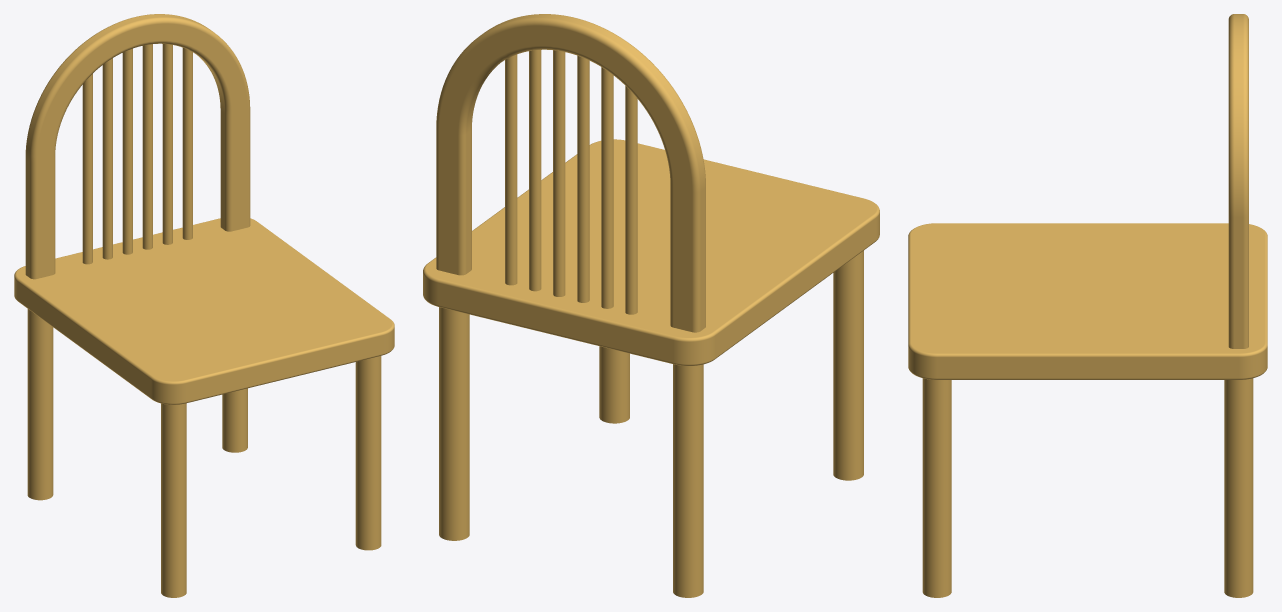
The model's file is chair01.gltf.
The picture shows the model from 3 angles, left to right: view 1: azimuth 30°, elevation 25°; view 2: azimuth 150°, elevation 25°; view 3: azimuth 270°, elevation 25°; orthographic projection. The views are drawn at different scales.
Parts seen in each view (by area): view 1: chair01_clone; view 2: chair01_clone; view 3: chair01_clone.
Part boxes in pixels (box(x1,y1,x2,y2)): chair01_clone: box(14, 14, 394, 597); chair01_clone: box(423, 14, 879, 597); chair01_clone: box(908, 14, 1267, 597).
Bounding box in the file's own units: 0.54 × 0.9717 × 0.62.
